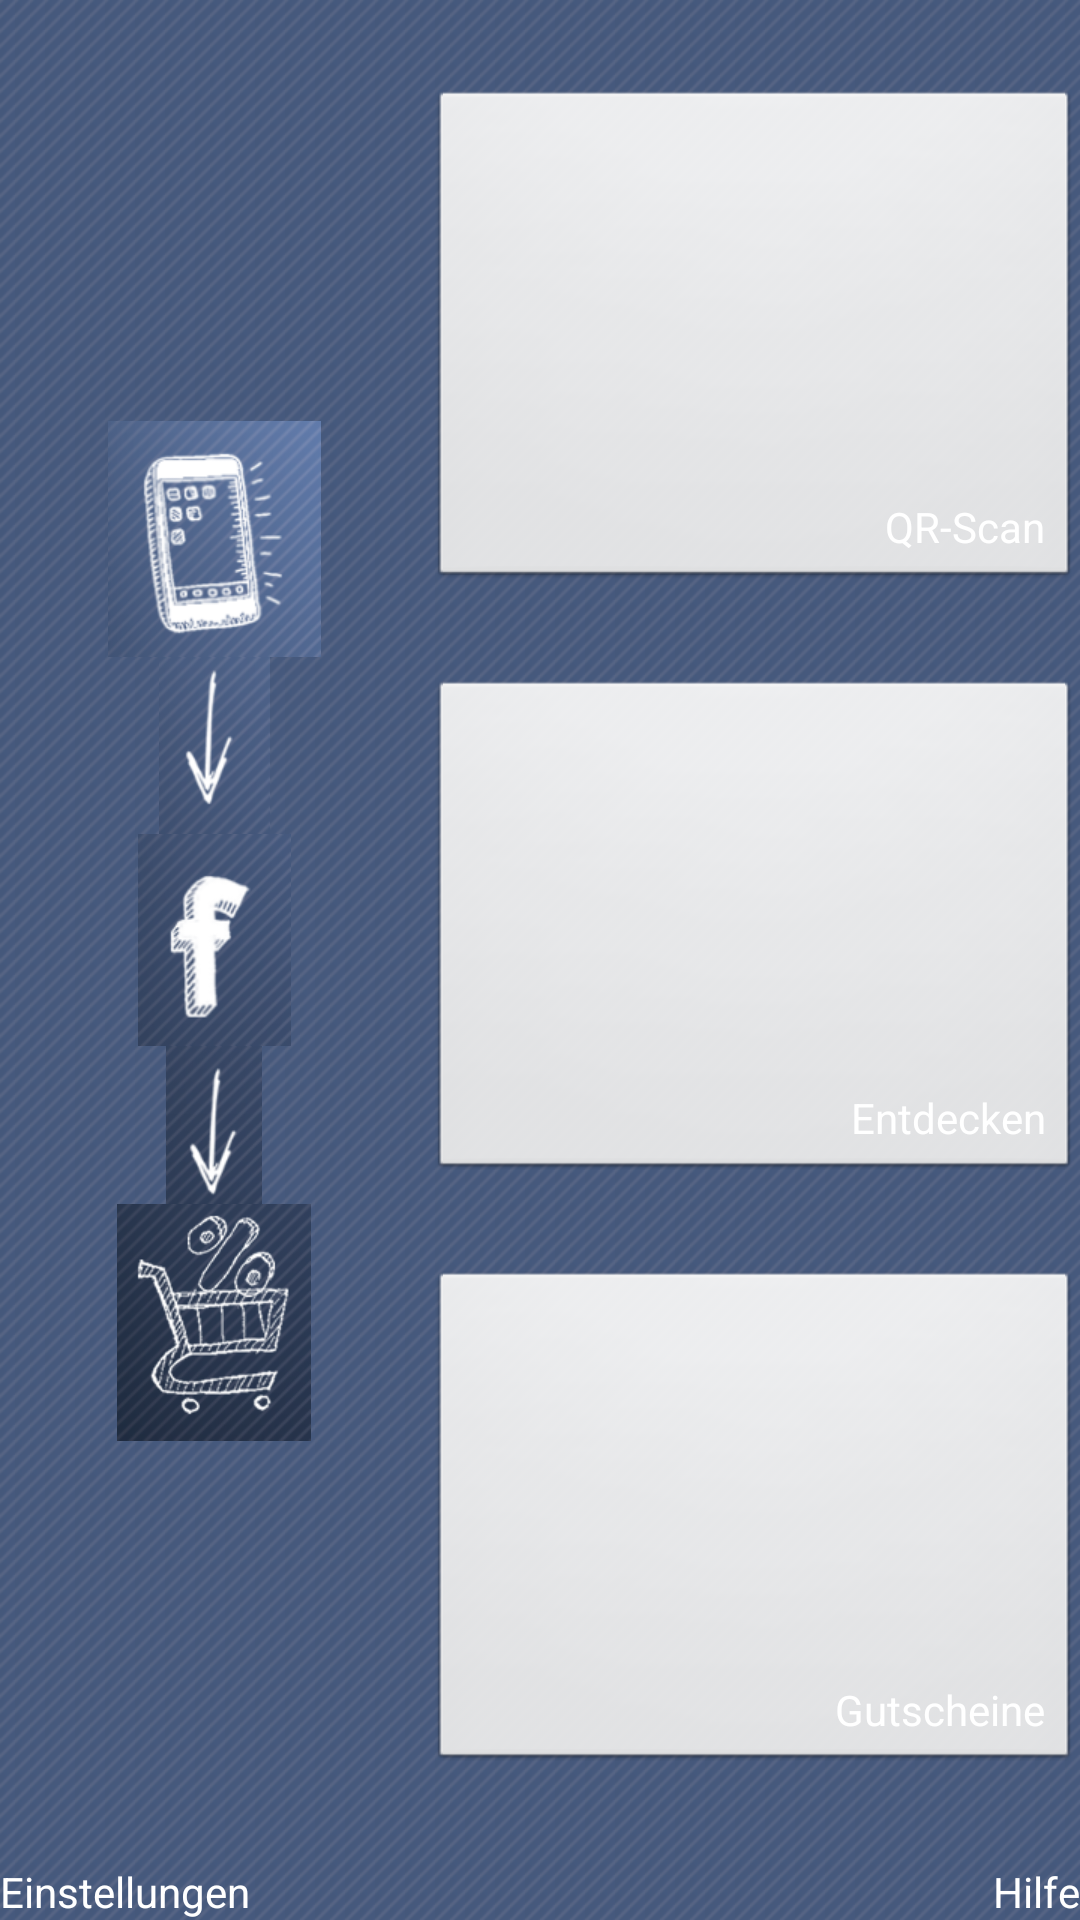

Icons on this 1080 × 1920 Android screen, each with the point to tap as point (x, y):
arrow: point (214, 745), point (214, 1125)
